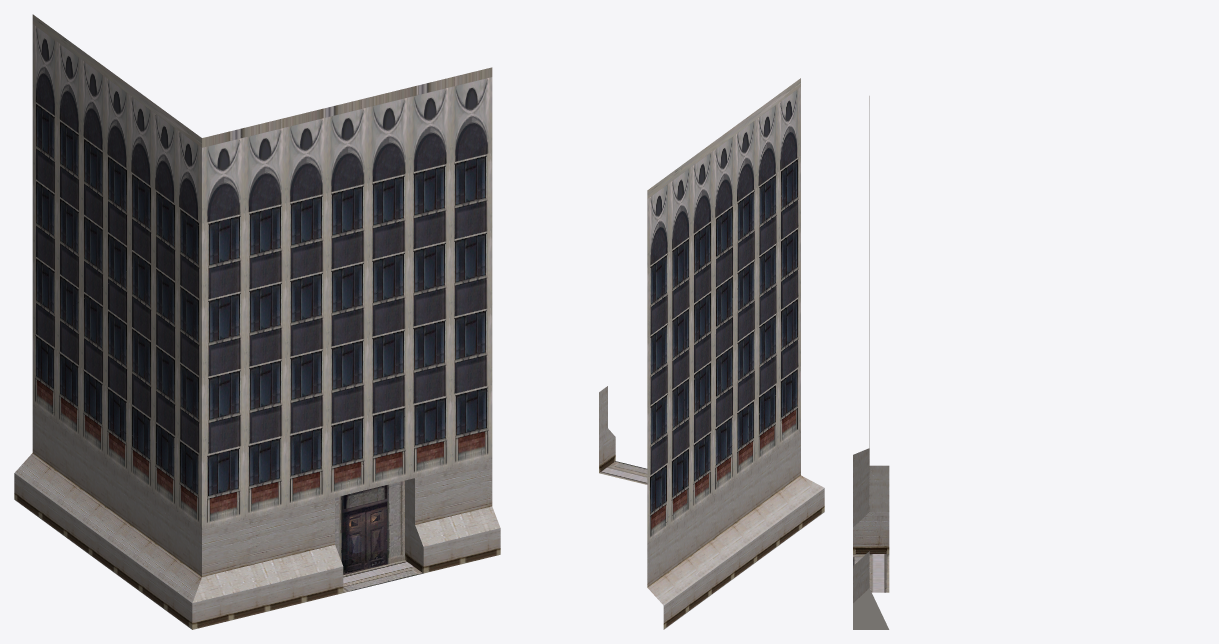
Rendered from M2Zone2_OfficeBlock1C.glb.
3 renders of one model, left to right at view 1: azimuth 30°, elevation 25°; view 2: azimuth 150°, elevation 25°; view 3: azimuth 270°, elevation 25°, orthographic. The views are drawn at different scales.
Parts seen in each view (by area): view 1: M2ZONE2_OFFICEBLOCK1C; view 2: M2ZONE2_OFFICEBLOCK1C; view 3: M2ZONE2_OFFICEBLOCK1C.
Part boxes in pixels (x1,y1,x2,y2): M2ZONE2_OFFICEBLOCK1C: (14, 14, 500, 629); M2ZONE2_OFFICEBLOCK1C: (599, 78, 824, 629); M2ZONE2_OFFICEBLOCK1C: (853, 96, 889, 629).
Size of the model in its own units: 16 by 23.88 by 16.
Materials: 7 (7 with a texture image).
